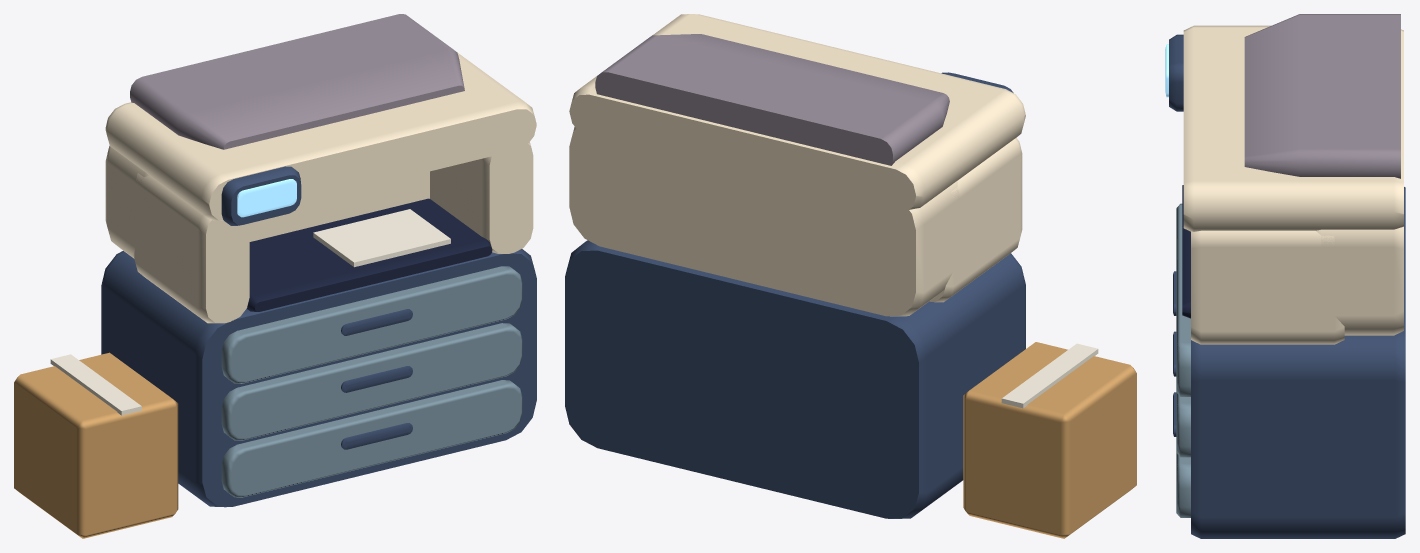
File: copy_station.glb
3 views of the same model, side by side, from view 1: azimuth 30°, elevation 25°; view 2: azimuth 150°, elevation 25°; view 3: azimuth 270°, elevation 25° (orthographic). The views are drawn at different scales.
Parts seen in each view (by area): view 1: copy_station; view 2: copy_station; view 3: copy_station.
Part boxes in pixels (<box>): copy_station: <box>14,14,536,538</box>; copy_station: <box>565,14,1136,538</box>; copy_station: <box>1165,14,1405,538</box>.
Bounding box in the file's own units: 1.92 × 1.46 × 0.8275.
